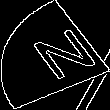N_SE: (14, 23, 96, 87)
